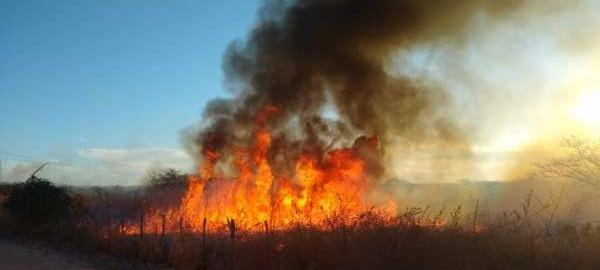fire: (206, 162, 361, 225)
smoke: (265, 22, 346, 106)
